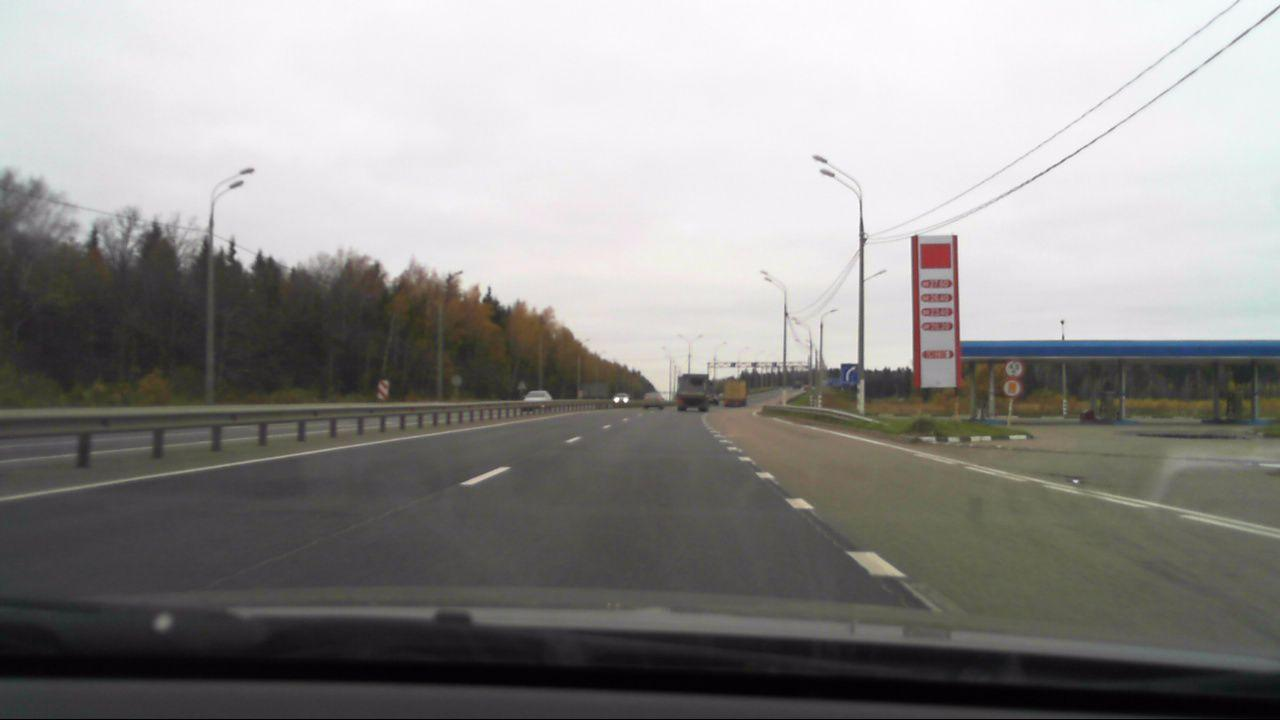3_13: (1006, 358, 1025, 378)
3_32: (1003, 381, 1024, 398)
5_15_2: (840, 363, 859, 384)
